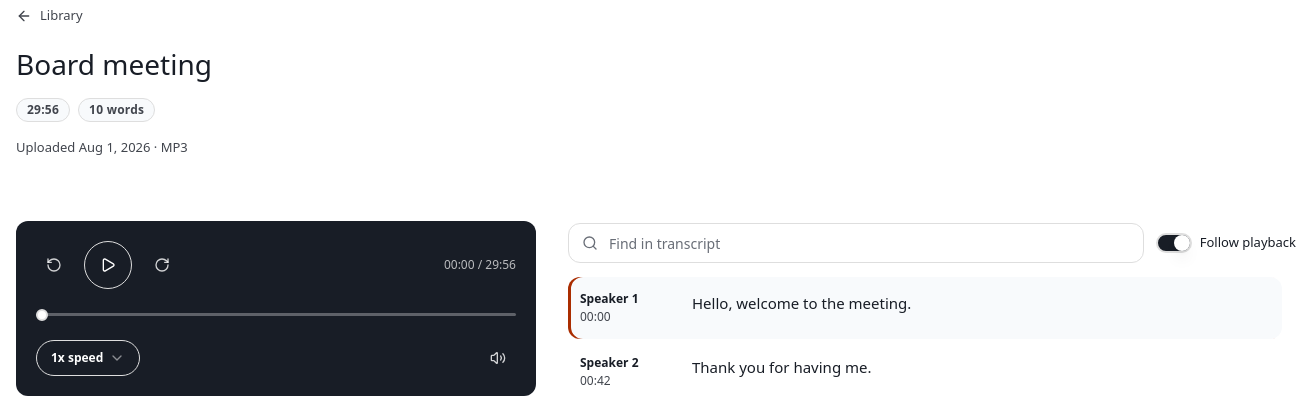
Test case: SessionReaderPage — transcript and transport › moves the audio to the turn a reader clicks
Expected: the text "00:00 / 29:56" is shown, x1=444 y1=257 x2=516 y2=273
Click the button "Speaker 2 00:42 Thank you for having me.". click: (609, 363)
box: x1=568 y1=341 x2=1282 y2=403
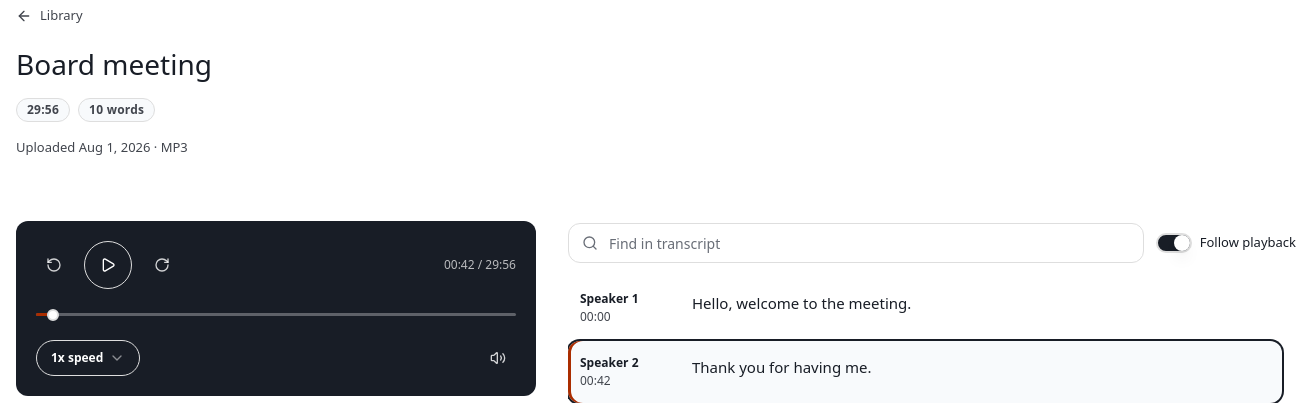
Expected: the text "00:42 / 29:56" is shown, x1=444 y1=257 x2=516 y2=273
